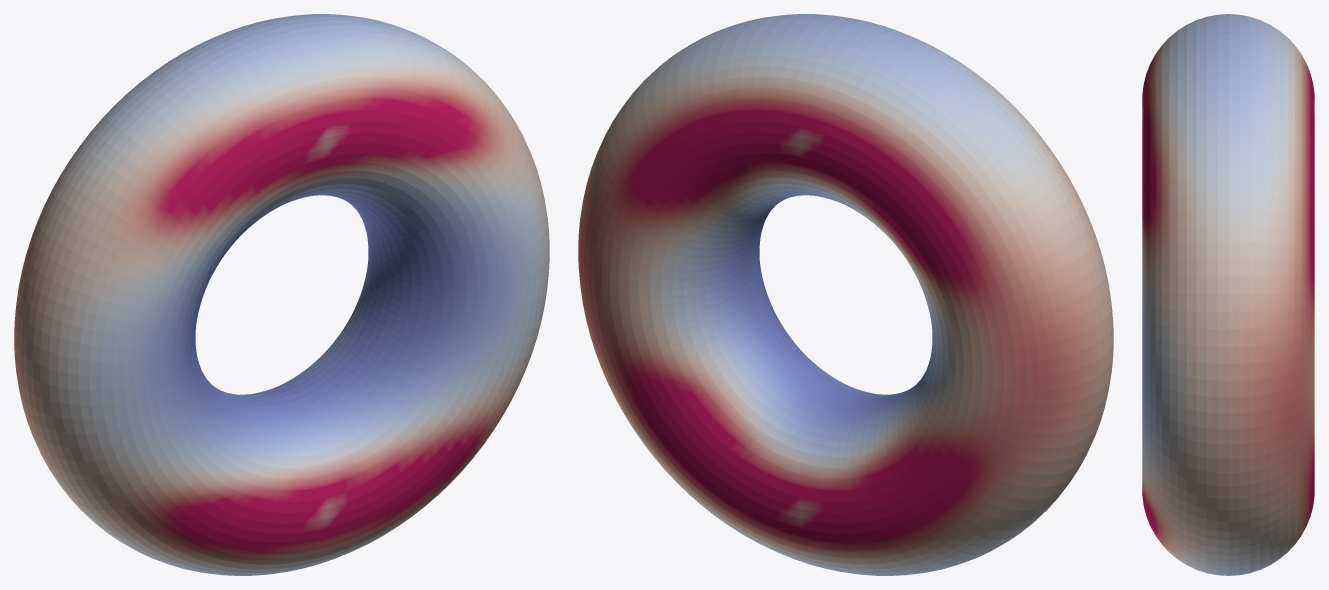
3 views of the same model, side by side, from view 1: azimuth 30°, elevation 25°; view 2: azimuth 150°, elevation 25°; view 3: azimuth 270°, elevation 25° (orthographic). The views are drawn at different scales.
Parts seen in each view (by area): view 1: world; view 2: world; view 3: world.
Boxes of the visible parts, x1,y1,x2,y2 form: world: (14, 14, 549, 575); world: (578, 14, 1113, 575); world: (1142, 14, 1314, 575).
Size of the model in its own units: 22.13 by 22.13 by 6.79.
